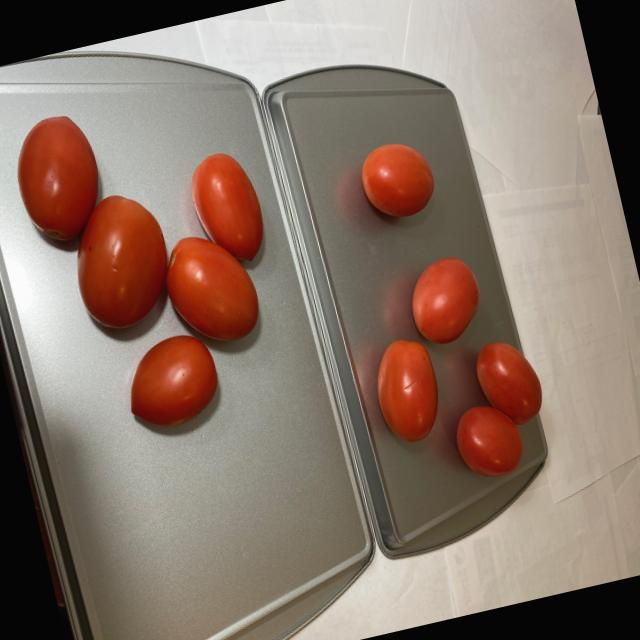tomato: (9, 76, 308, 454), (320, 124, 560, 502)
